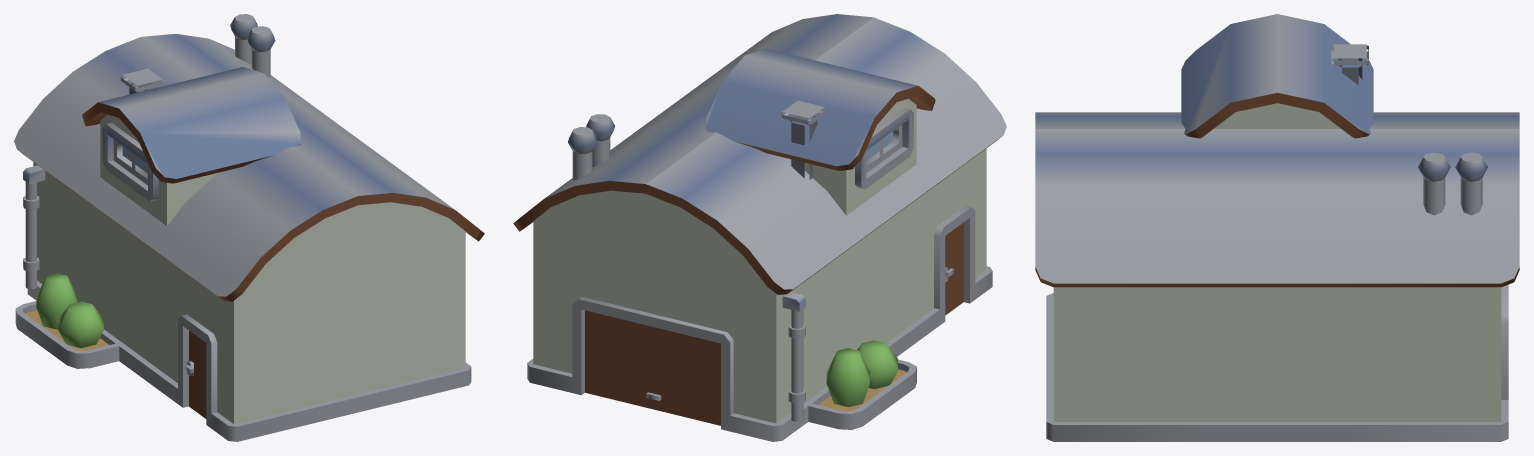
The model's file is factory-c.glb.
The picture shows the model from 3 angles, left to right: view 1: azimuth 30°, elevation 25°; view 2: azimuth 150°, elevation 25°; view 3: azimuth 270°, elevation 25°; orthographic projection. The views are drawn at different scales.
Visible parts, largest first — view 1: factory-c; view 2: factory-c; view 3: factory-c.
Boxes of the visible parts, x1=… form: factory-c: x1=14, y1=14, x2=484, y2=441; factory-c: x1=513, y1=14, x2=1006, y2=441; factory-c: x1=1035, y1=14, x2=1519, y2=441.
Bounding box in the file's own units: 0.7108 × 0.5962 × 0.9.
